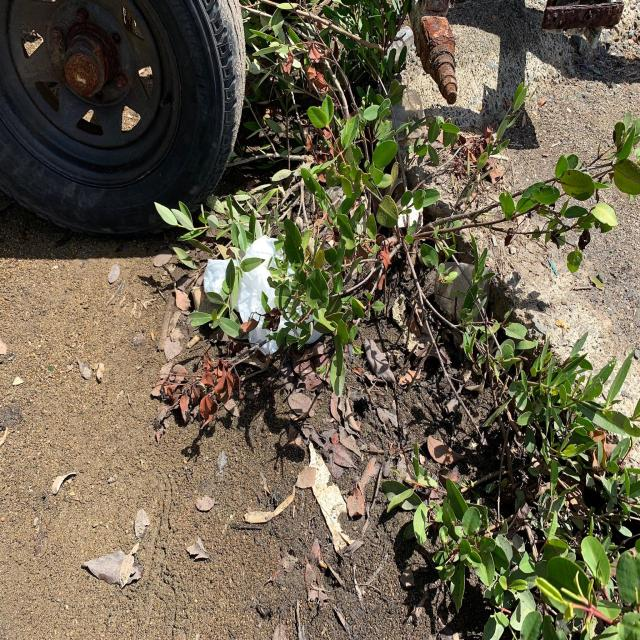litter: (191, 225, 350, 364)
